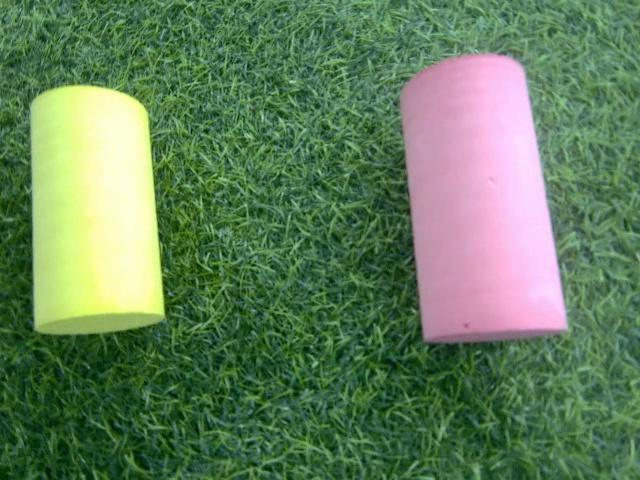red_cylinder: (384, 45, 575, 348)
yellow_cylinder: (22, 83, 171, 339)
